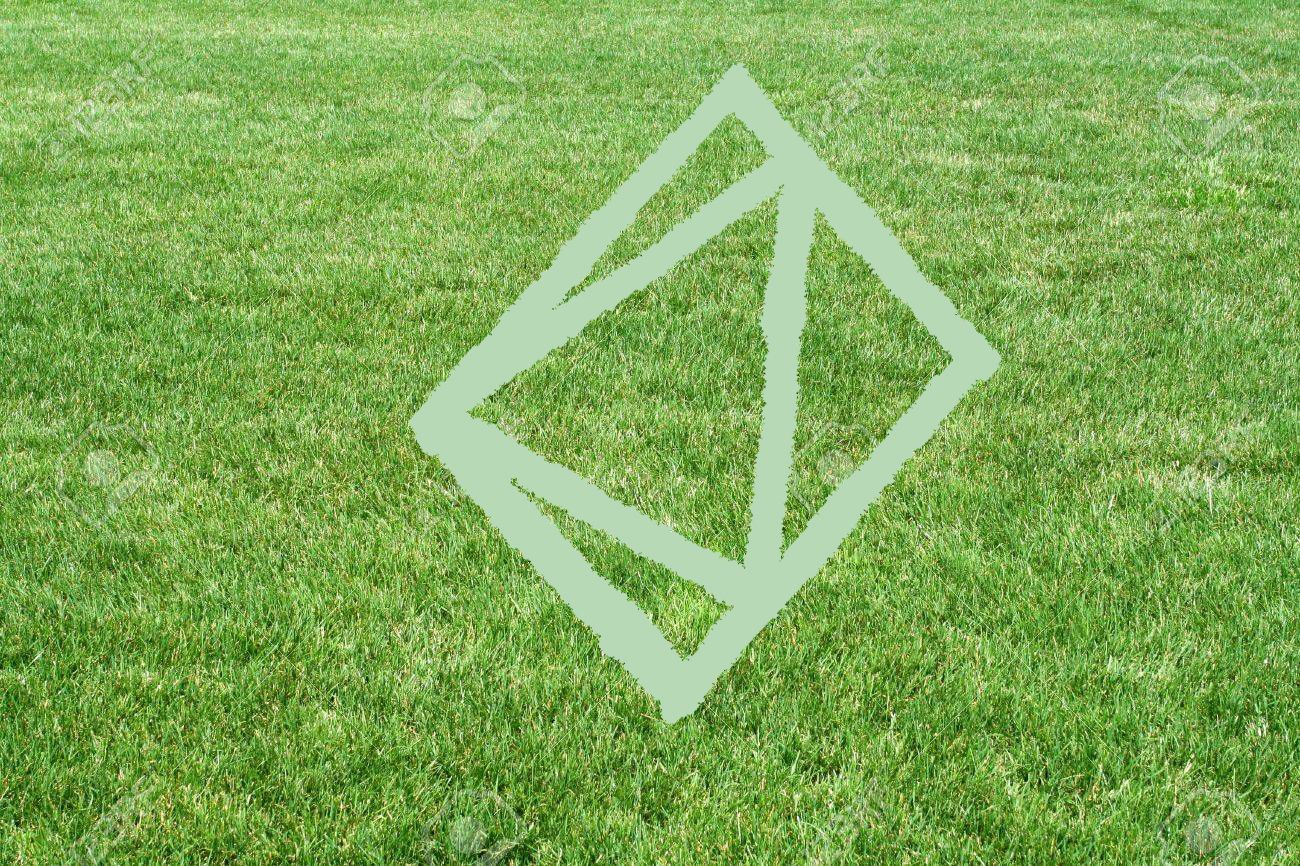marker: (393, 52, 1012, 728)
